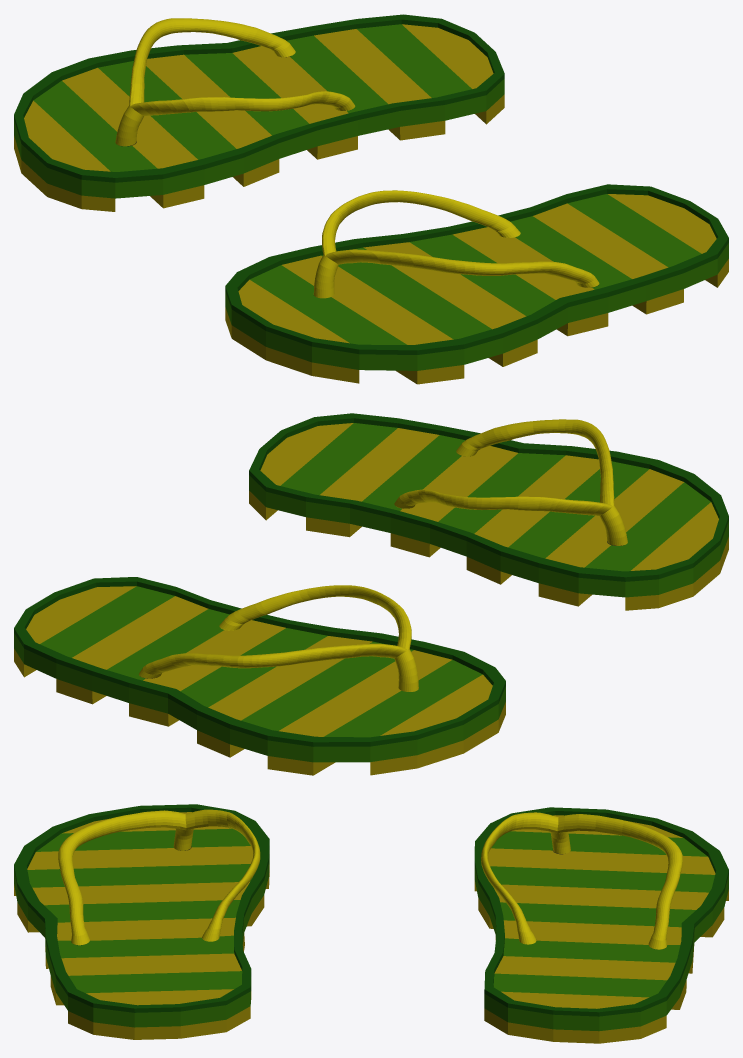
File: _überarbeitet.fbx
The picture shows the model from 3 angles, top to bottom: view 1: azimuth 30°, elevation 25°; view 2: azimuth 150°, elevation 25°; view 3: azimuth 270°, elevation 25°; orthographic projection. The views are drawn at different scales.
Visible parts, largest first — view 1: Flipflop L, Flipflop R; view 2: Flipflop R, Flipflop L; view 3: Flipflop R, Flipflop L.
Part boxes in pixels (<box>): Flipflop L: <box>225,184,728,384</box>; Flipflop R: <box>14,14,504,211</box>; Flipflop R: <box>14,577,505,775</box>; Flipflop L: <box>249,413,728,610</box>; Flipflop R: <box>474,807,728,1043</box>; Flipflop L: <box>14,804,269,1039</box>.
Size of the model in its own units: 357 by 65.44 by 519.
